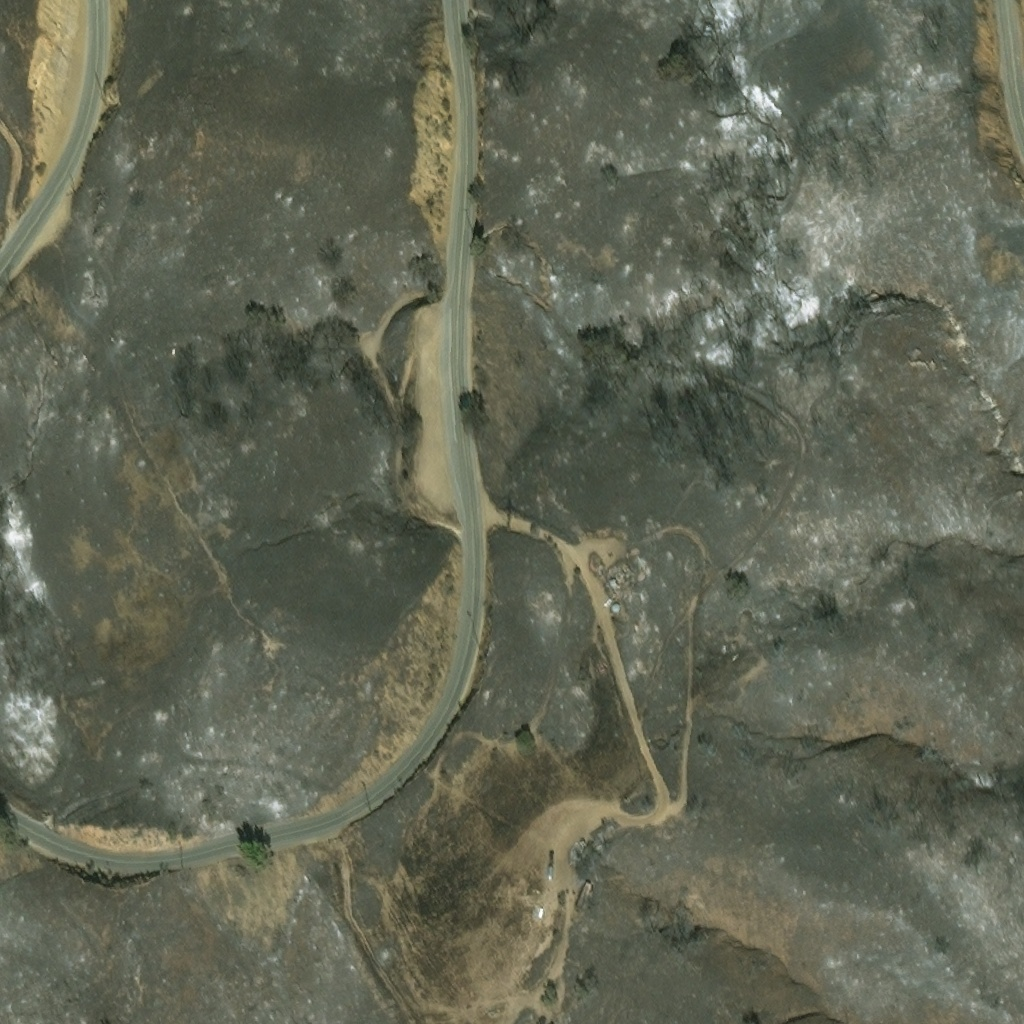3 destroyed: (611, 568, 633, 597), (576, 884, 593, 916), (610, 602, 621, 612)
